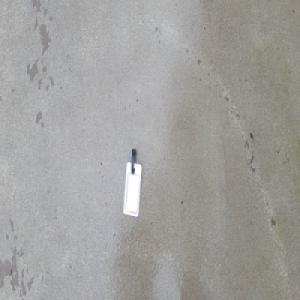LuggageTag: (122, 147, 142, 218)
